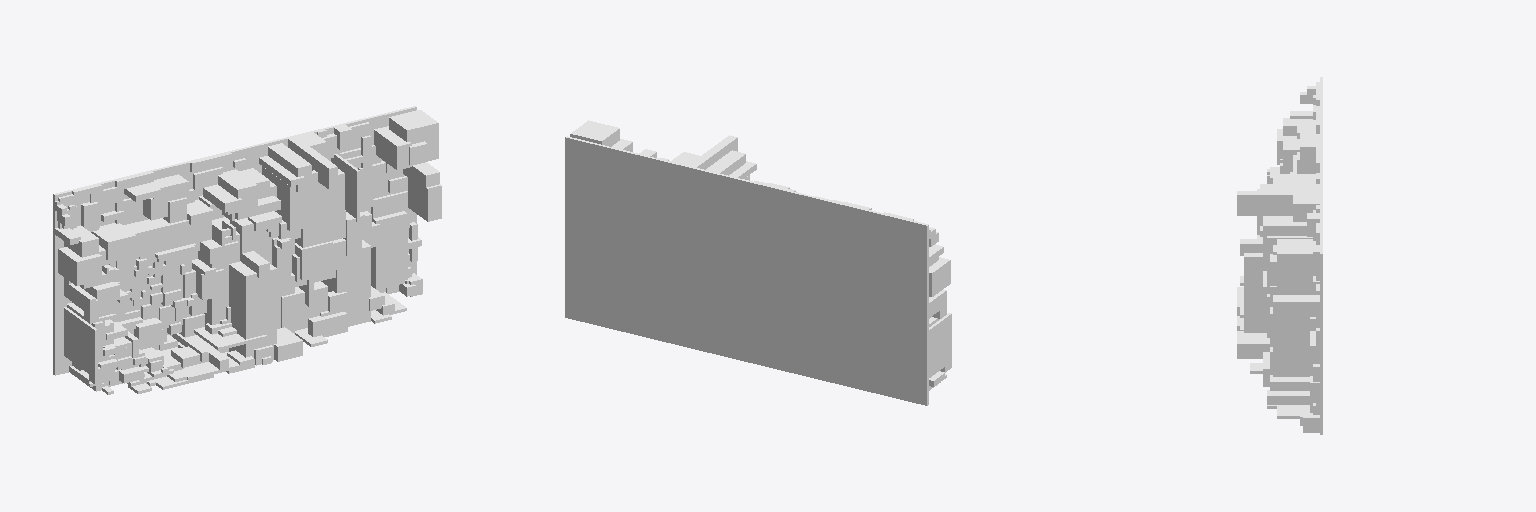
File: blocky_wall_01.obj
3 renders of one model, left to right at view 1: azimuth 30°, elevation 25°; view 2: azimuth 150°, elevation 25°; view 3: azimuth 270°, elevation 25°, orthographic.
Size of the model in its own units: 126 by 60 by 26.